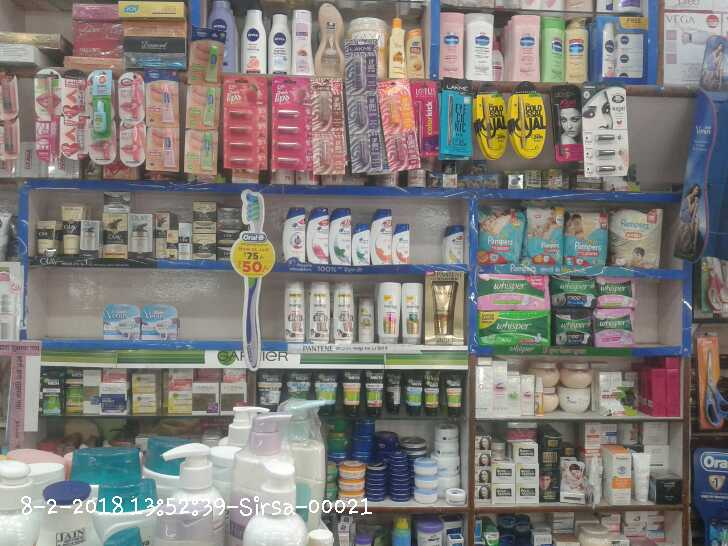venus: (103, 304, 141, 339), (141, 306, 179, 339)
